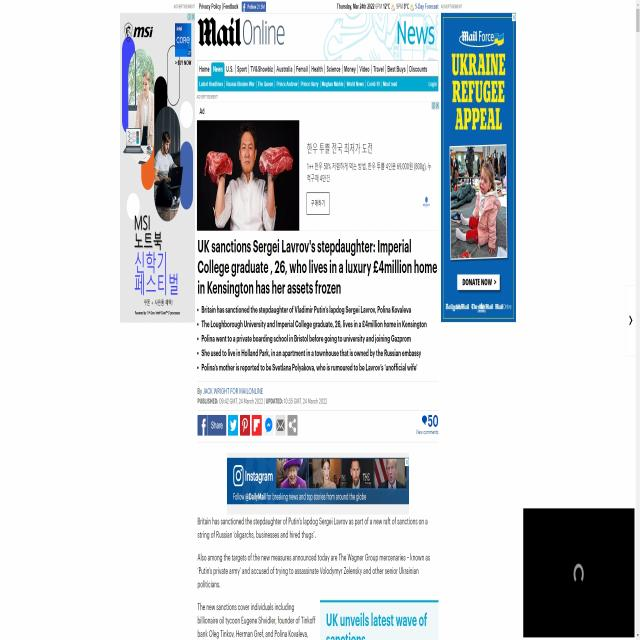menu-panel: (196, 59, 440, 90)
